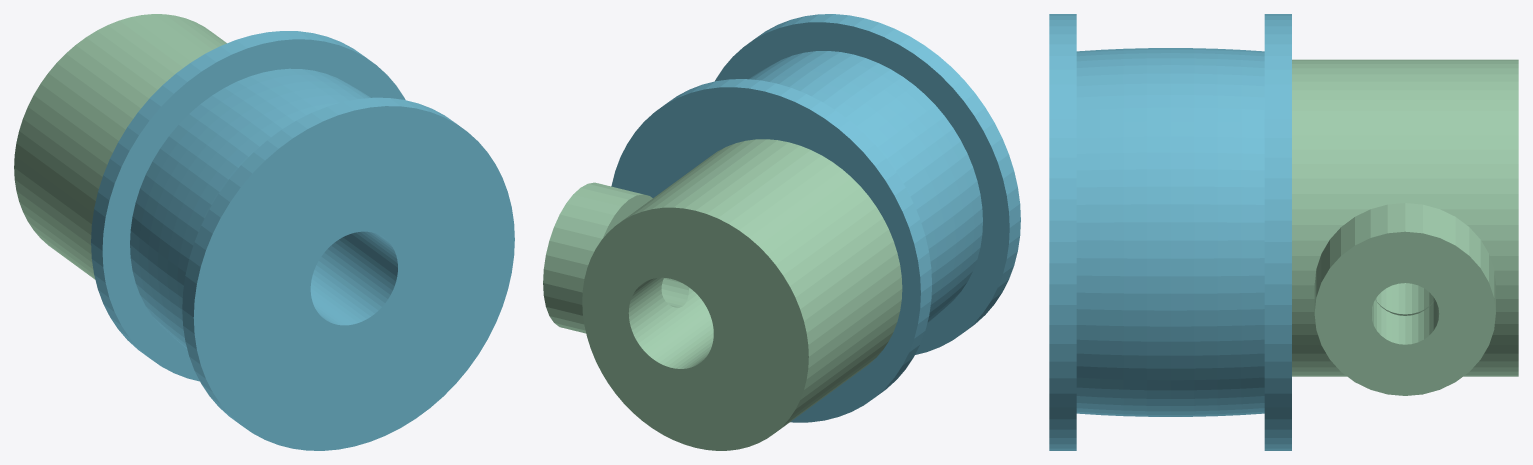
The model's file is eccentric_idler_mount_demo.glb.
3 renders of one model, left to right at view 1: azimuth 30°, elevation 25°; view 2: azimuth 150°, elevation 25°; view 3: azimuth 270°, elevation 25°, orthographic. The views are drawn at different scales.
Visible parts, largest first — view 1: idler, bushing; view 2: bushing, idler; view 3: idler, bushing.
Part boxes in pixels (x1,y1,x2,y2): idler: [91, 31, 514, 450]; bushing: [14, 14, 226, 279]; bushing: [543, 139, 902, 450]; idler: [611, 14, 1020, 422]; idler: [1049, 14, 1291, 450]; bushing: [1292, 59, 1518, 395].
Bounding box in the file's own units: 19.3 × 19.3 × 20.7.
